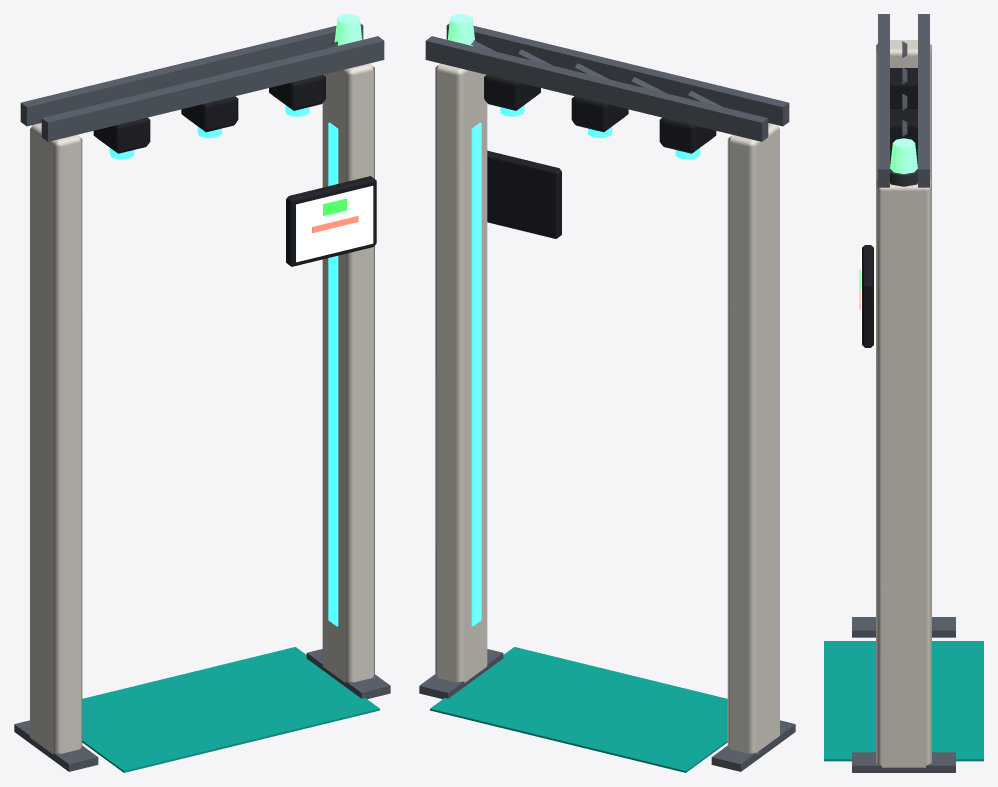
Rendered from station_buffer_ausstattung_3_3.glb.
3 renders of one model, left to right at view 1: azimuth 30°, elevation 25°; view 2: azimuth 150°, elevation 25°; view 3: azimuth 270°, elevation 25°, orthographic. The views are drawn at different scales.
Parts seen in each view (by area): view 1: station_buffer_ausstattung_3_3; view 2: station_buffer_ausstattung_3_3; view 3: station_buffer_ausstattung_3_3.
Part boxes in pixels (x1,y1,x2,y2): station_buffer_ausstattung_3_3: [14, 14, 390, 772]; station_buffer_ausstattung_3_3: [419, 14, 795, 772]; station_buffer_ausstattung_3_3: [824, 14, 983, 772].
Size of the model in its own units: 0.92 by 1.72 by 0.4.
